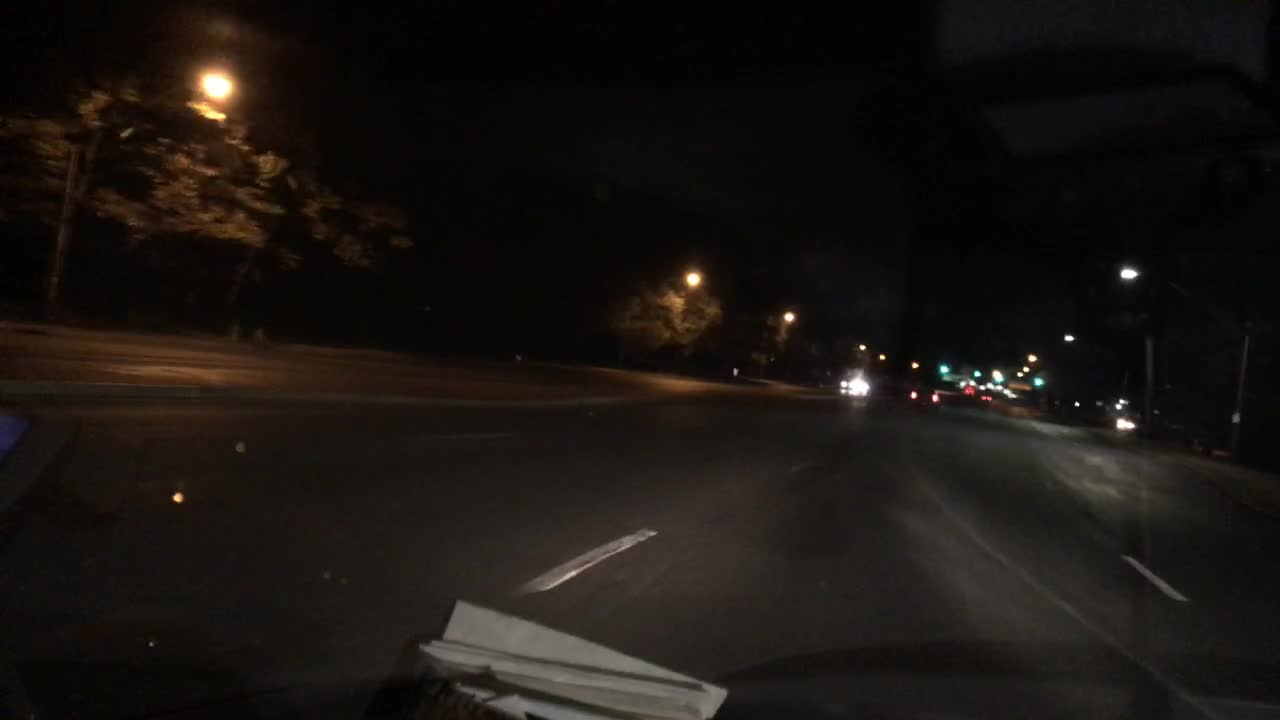car: (833, 368, 874, 395), (907, 380, 939, 412), (1068, 392, 1097, 419), (1112, 414, 1135, 441), (978, 380, 1000, 395), (960, 383, 977, 402), (980, 390, 995, 409), (1000, 385, 1015, 398)
traffic light: (938, 358, 950, 382), (1031, 373, 1044, 393)
